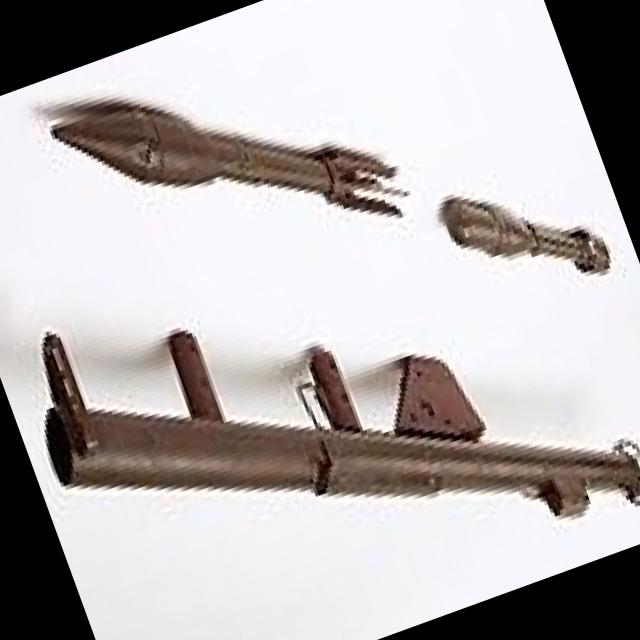Weapon: (6, 146, 640, 640)
